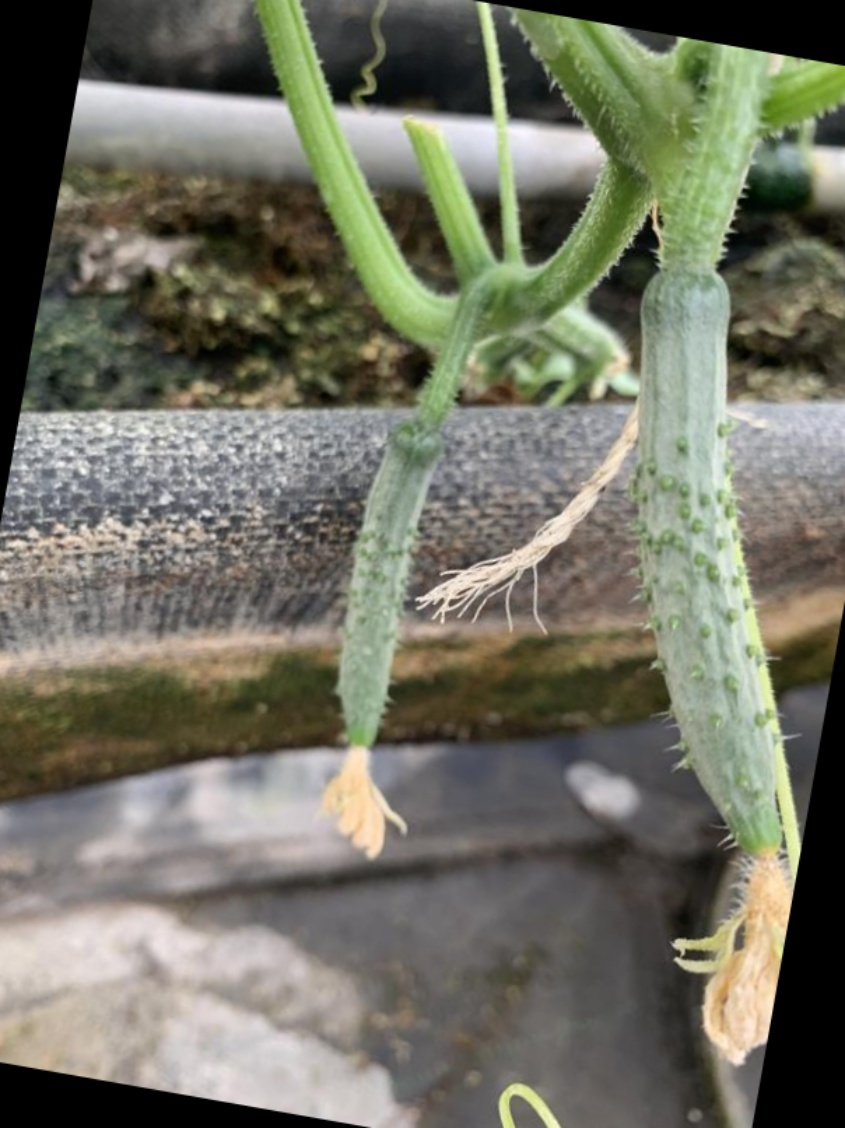growth: (615, 251, 785, 907)
